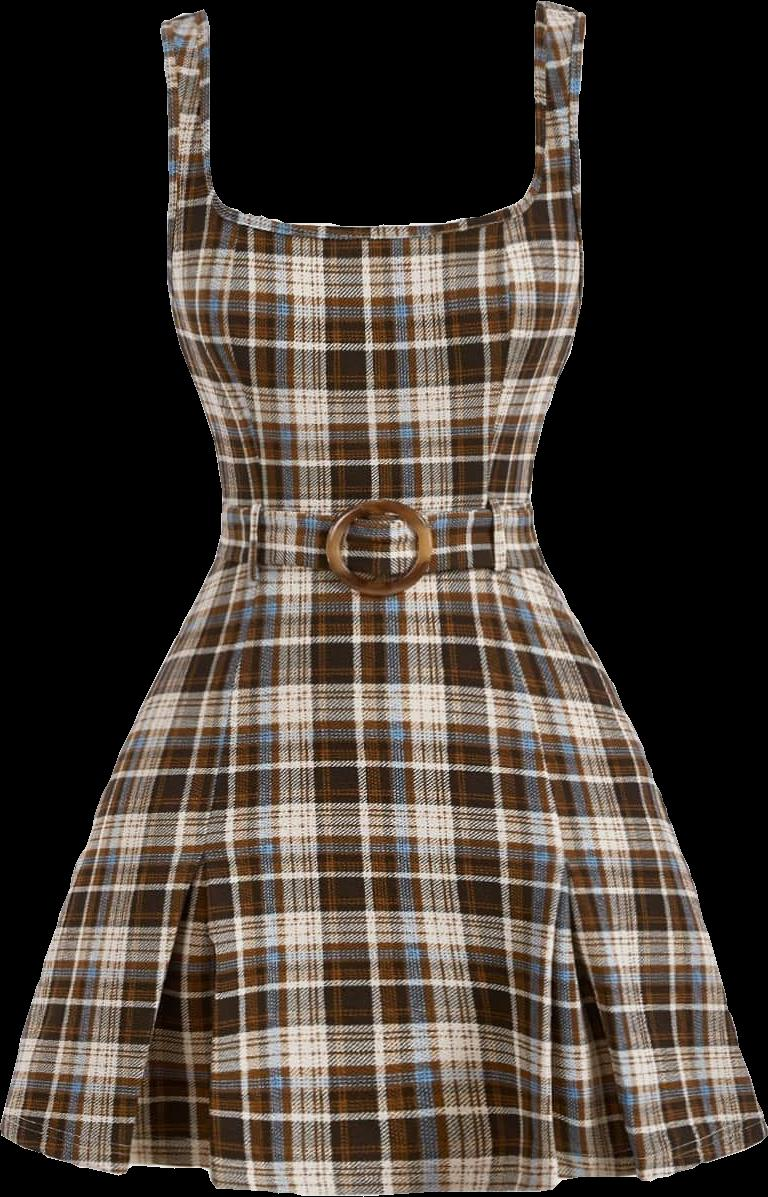Bodice: (160, 0, 586, 583)
Hemline: (0, 1122, 767, 1196)
Neckline: (194, 0, 553, 237)
Skirt: (1, 564, 765, 1194)
Waistline: (206, 551, 549, 590)
